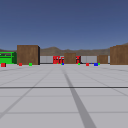blue_cube: (93, 62, 98, 66), (62, 63, 65, 66)
green_basket: (1, 51, 17, 64)
green_cube: (29, 62, 32, 66), (98, 62, 100, 65)
obstacle: (17, 44, 40, 65), (110, 46, 128, 65), (64, 52, 76, 64), (96, 54, 107, 63)
red_basket: (52, 55, 81, 64)
red_cube: (1, 63, 6, 67), (85, 62, 89, 66), (18, 62, 22, 66)
